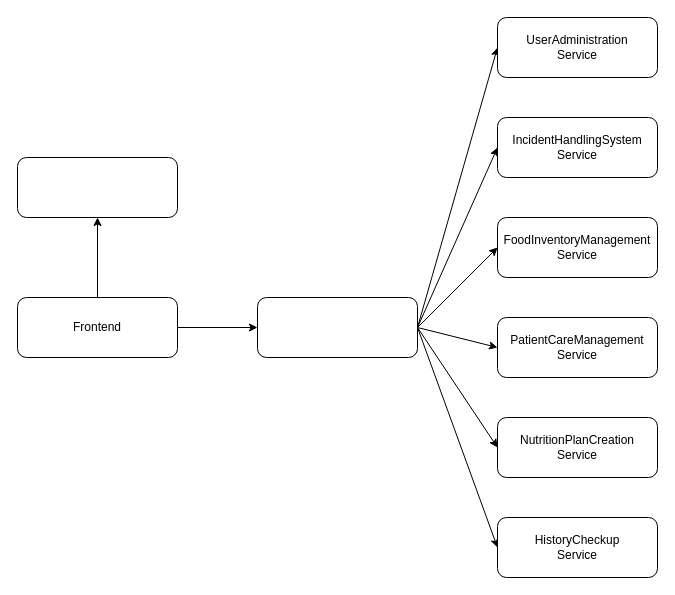
The diagram is 675 pixels wide and 595 high, and some of its shapes have lost their labels. The shapes that lost their labels are listed below. From the top down, each one's centre as x and y in pixels, then its label:
At point 97,187: "AuthenticationHub Service".
At point 337,327: "Balancer".
